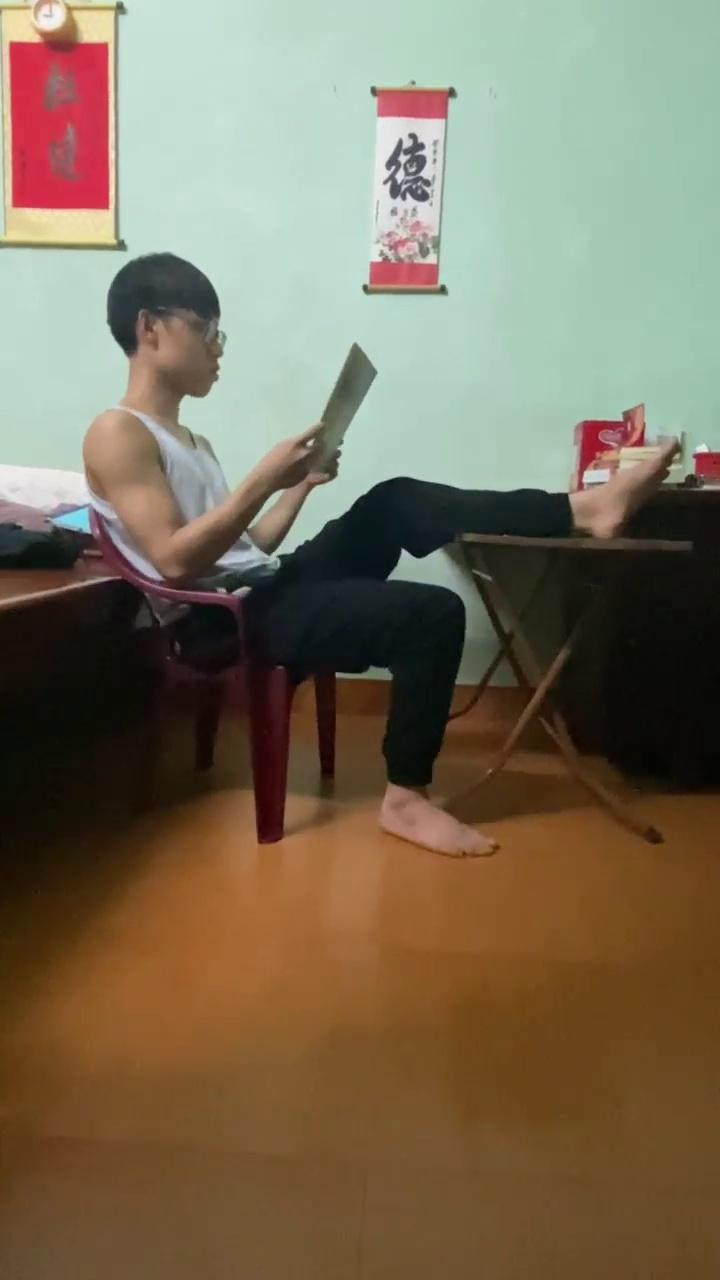BadPosture: (254, 440, 677, 855)
